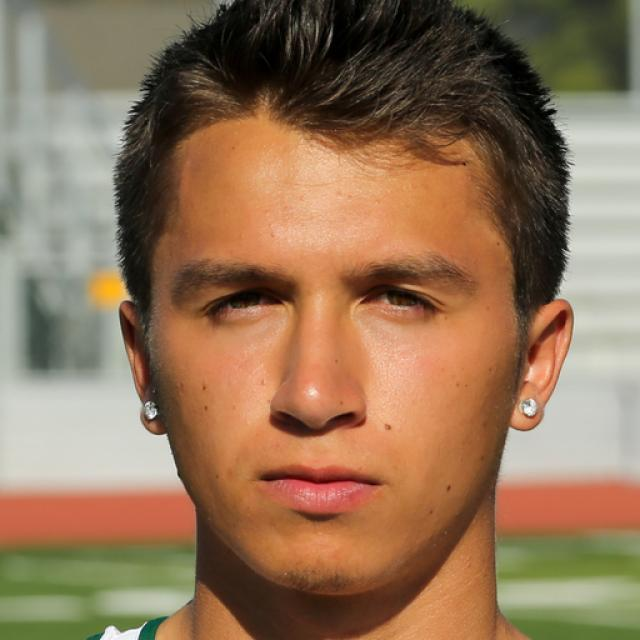disgust: (148, 109, 520, 594)
